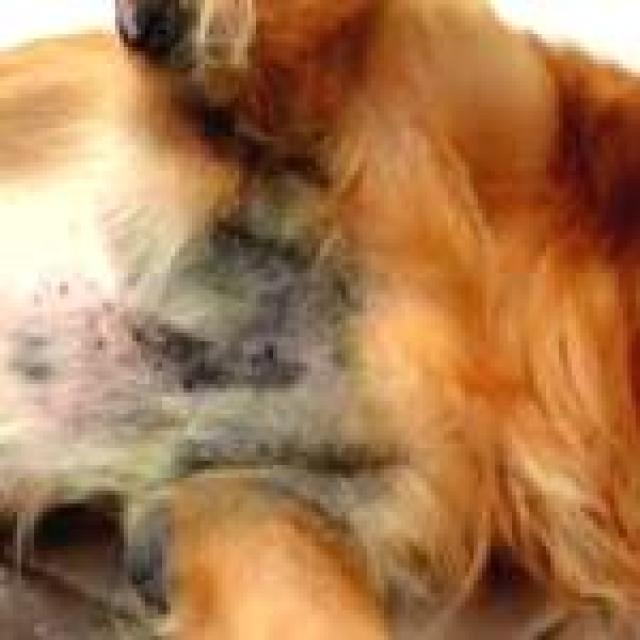fungal infection: (192, 337, 378, 465), (201, 189, 358, 339), (17, 282, 172, 423), (288, 449, 405, 524), (114, 486, 176, 613), (230, 119, 327, 191), (160, 254, 210, 392)
